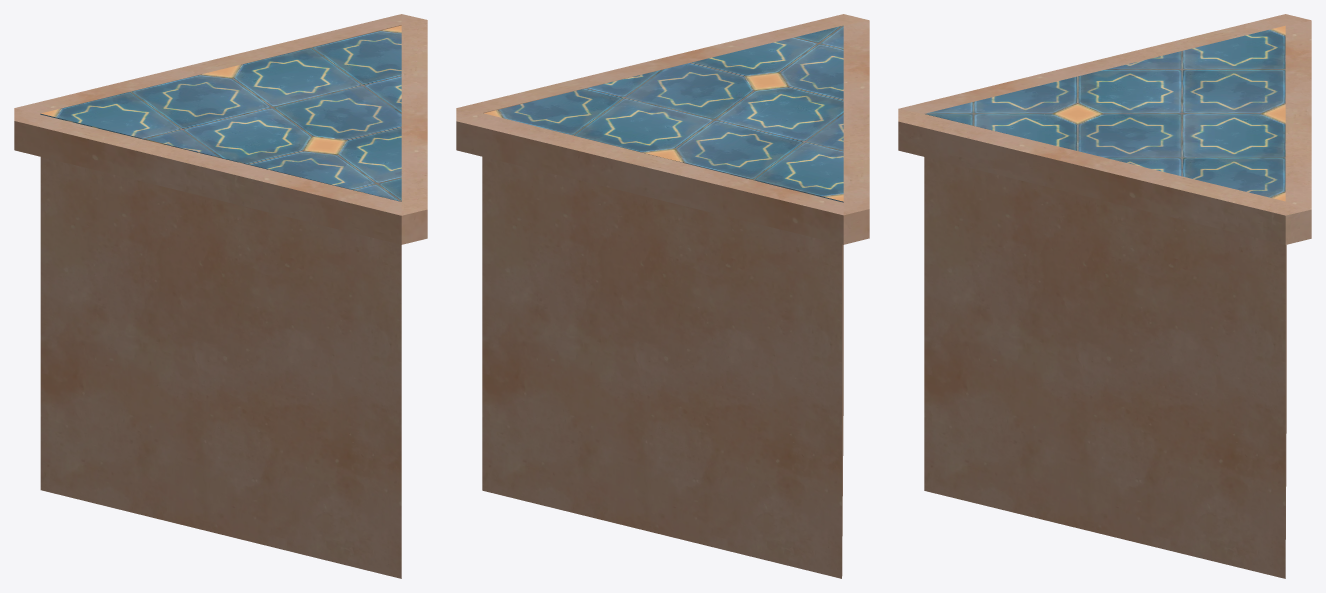
The picture shows the model from 3 angles, left to right: view 1: azimuth 30°, elevation 25°; view 2: azimuth 150°, elevation 25°; view 3: azimuth 270°, elevation 25°; orthographic projection.
Parts seen in each view (by area): view 1: SM_BB_T4_Foundation_Triangle_Large_01_LOD0; view 2: SM_BB_T4_Foundation_Triangle_Large_01_LOD0; view 3: SM_BB_T4_Foundation_Triangle_Large_01_LOD0.
Boxes of the visible parts, <box> form: SM_BB_T4_Foundation_Triangle_Large_01_LOD0: <box>14,14,427,578</box>; SM_BB_T4_Foundation_Triangle_Large_01_LOD0: <box>456,14,869,578</box>; SM_BB_T4_Foundation_Triangle_Large_01_LOD0: <box>898,14,1311,578</box>.
Size of the model in its own units: 3.43 by 3 by 2.97.
Materials: 2 (2 with a texture image).
